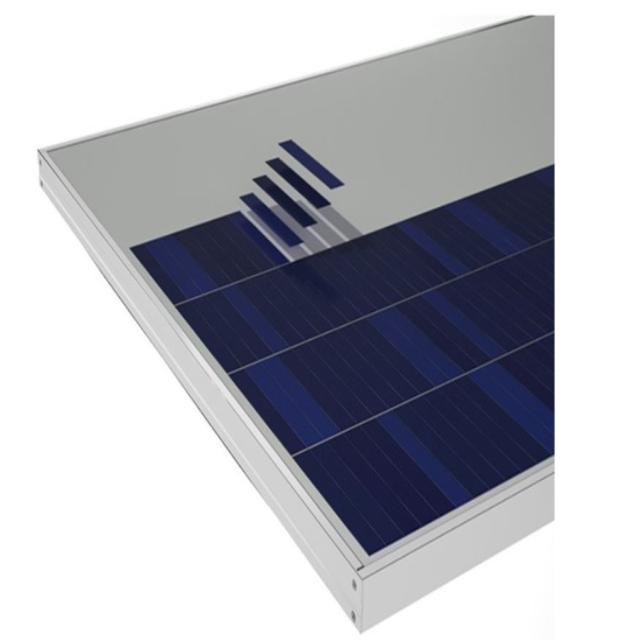clean-solar-panel: (134, 166, 554, 555)
